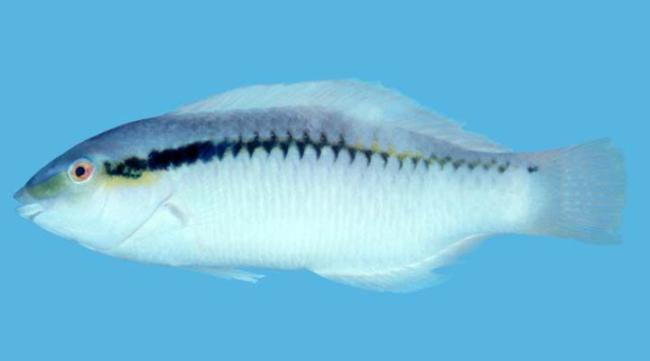fish: (13, 78, 629, 293)
